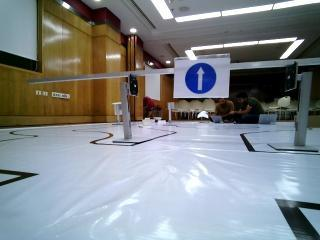straight: (174, 59, 230, 99)
